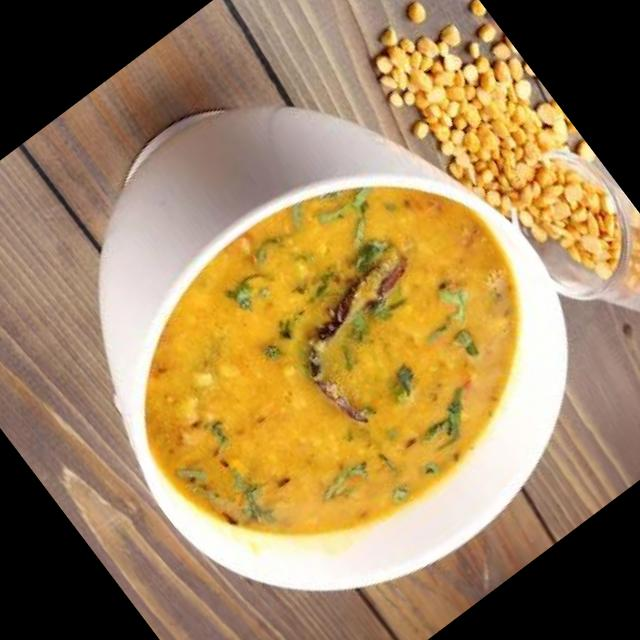dal: (61, 87, 640, 640)
